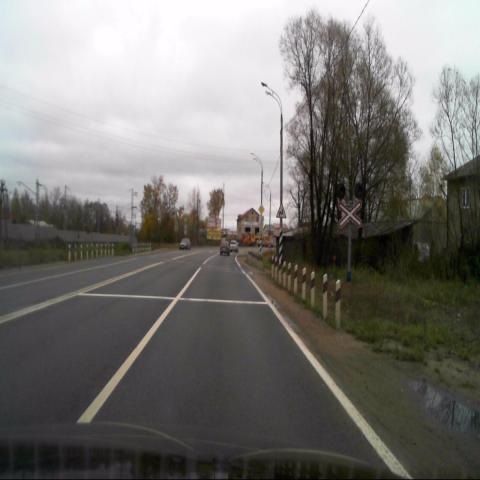1_12: (276, 202, 286, 218)
